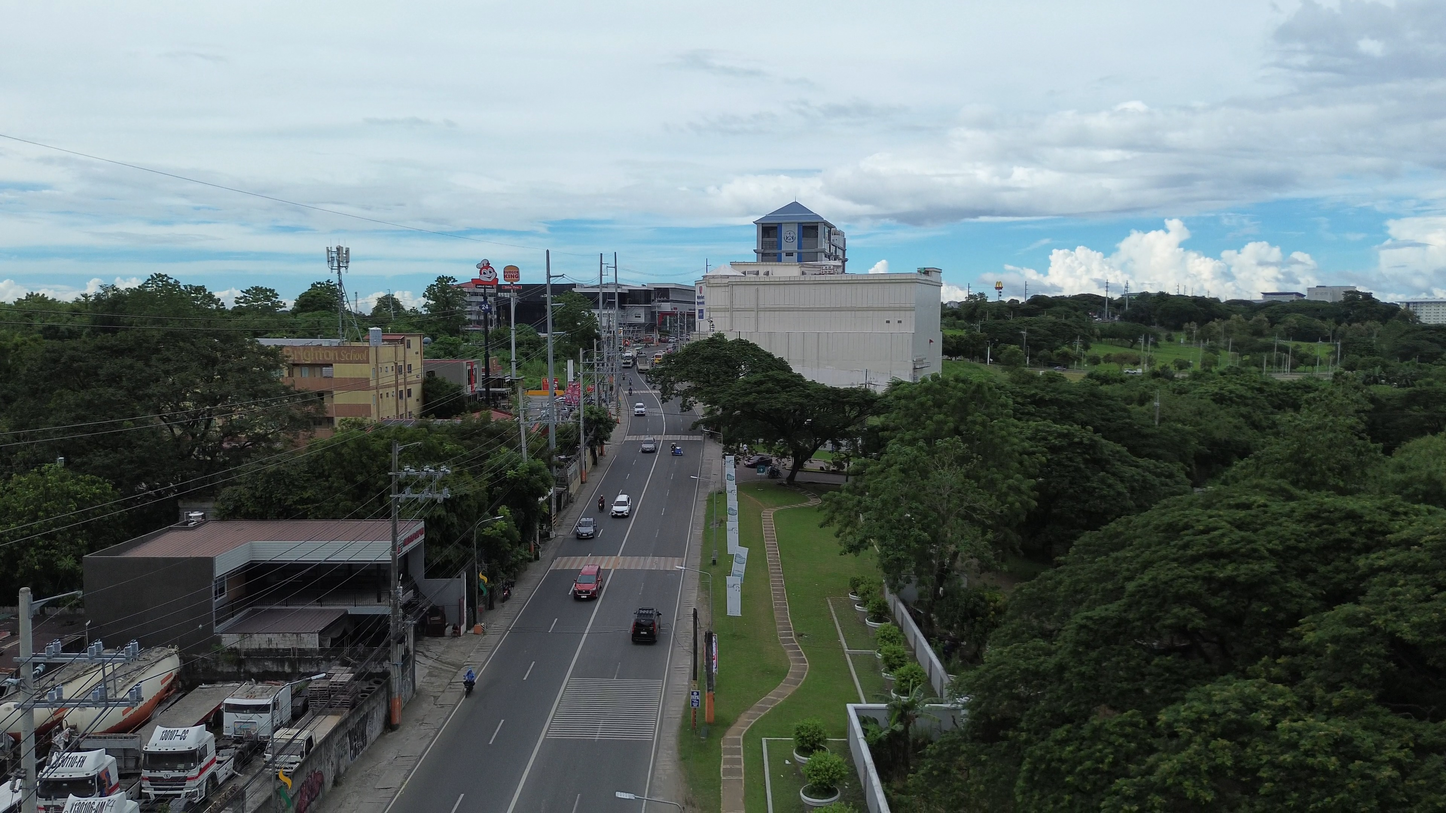motorcycle: (671, 445, 683, 456)
truck: (223, 683, 292, 739), (621, 351, 635, 367)
vehicle: (141, 726, 236, 801), (37, 749, 124, 813), (264, 728, 314, 775), (56, 793, 138, 813), (572, 565, 602, 600), (630, 607, 659, 642), (610, 494, 631, 517), (575, 517, 596, 539), (743, 454, 773, 467), (641, 436, 657, 453), (621, 352, 634, 367), (633, 402, 646, 416), (652, 352, 663, 365), (1122, 368, 1142, 375), (671, 444, 682, 455)
